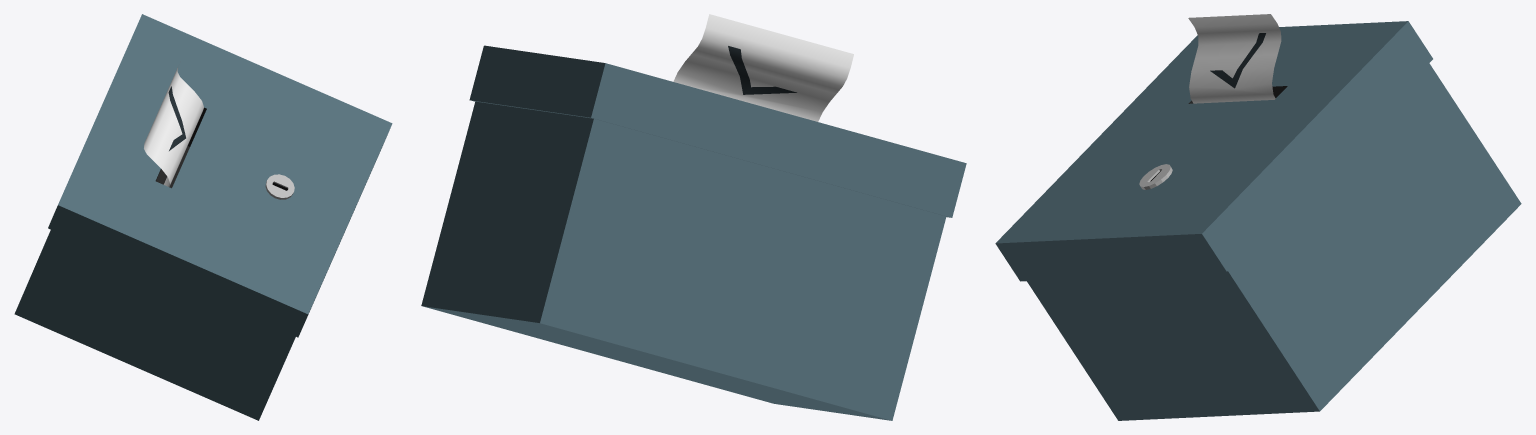
File: ballot_box_with_ballot.glb
3 renders of one model, left to right at view 1: azimuth 30°, elevation 25°; view 2: azimuth 150°, elevation 25°; view 3: azimuth 270°, elevation 25°, orthographic. The views are drawn at different scales.
Parts seen in each view (by area): view 1: Cube.975; view 2: Cube.975; view 3: Cube.975.
Part boxes in pixels (<box>): Cube.975: <box>14,14,392,420</box>; Cube.975: <box>421,14,966,420</box>; Cube.975: <box>995,14,1521,420</box>.
Size of the model in its own units: 2.22 by 2.04 by 2.43.
Materials: 1 (1 with a texture image).
